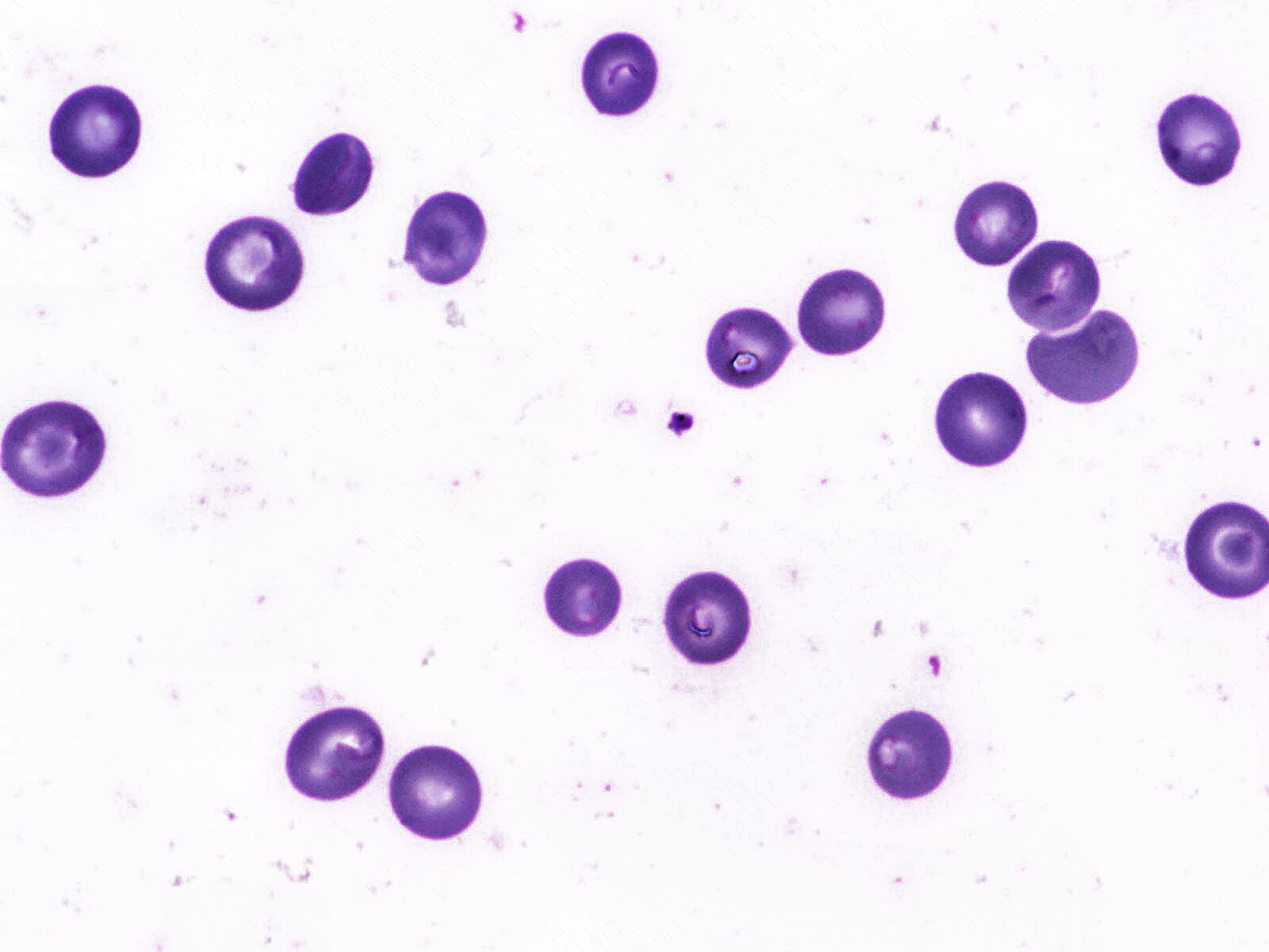Uninfected: (0, 396, 112, 504), (1024, 309, 1137, 409), (383, 741, 489, 846), (1001, 236, 1104, 339), (44, 80, 146, 183), (285, 703, 385, 804), (207, 213, 303, 313), (1153, 90, 1247, 192), (862, 704, 957, 804), (400, 187, 493, 289), (792, 263, 888, 360), (933, 371, 1028, 469), (951, 175, 1044, 270), (665, 571, 753, 665), (540, 551, 627, 643), (290, 132, 378, 221), (579, 31, 665, 120), (705, 306, 793, 392)
